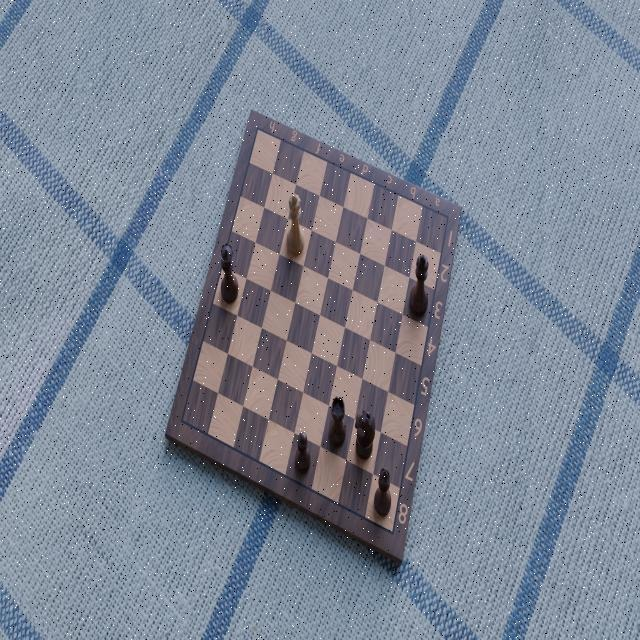black-bishop: (373, 466, 393, 518)
black-king: (409, 254, 431, 318)
black-knight: (354, 408, 377, 463)
black-pawn: (294, 431, 312, 475)
black-rook: (327, 394, 348, 447)
white-king: (284, 191, 306, 257)
white-queen: (219, 242, 240, 306)
